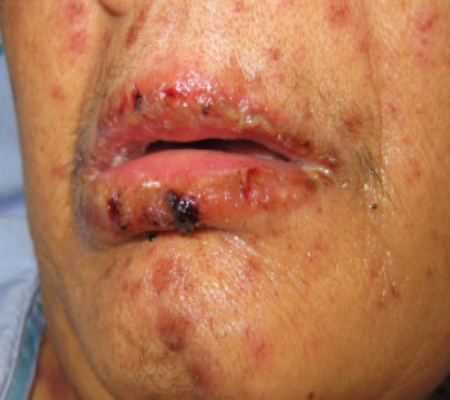SJS-TEN: (60, 72, 339, 258), (96, 223, 266, 400)
